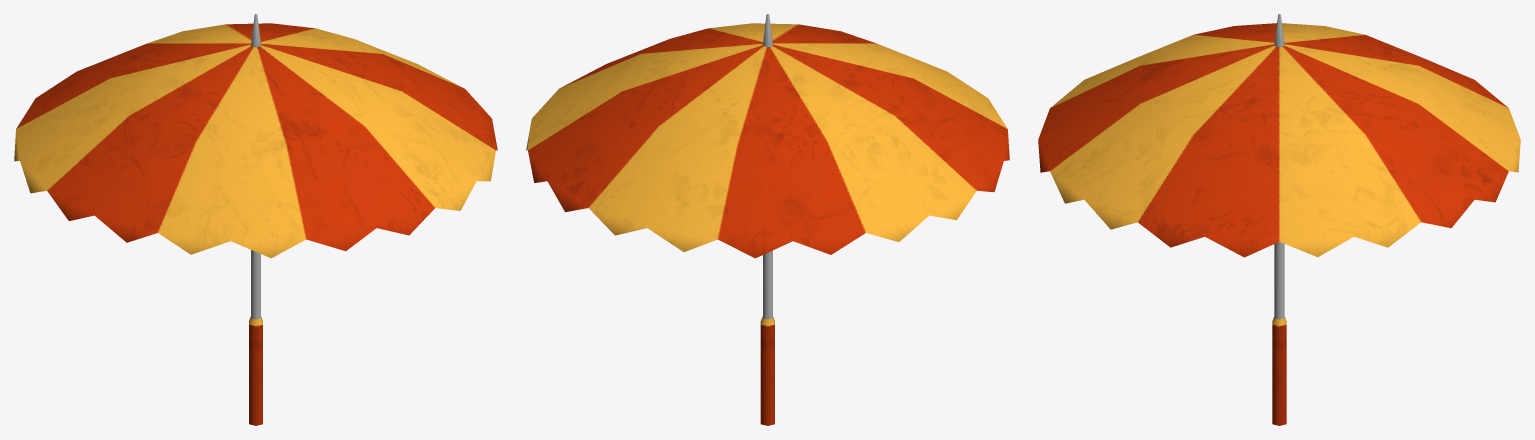
File: Umbrella.fbx
3 views of the same model, side by side, from view 1: azimuth 30°, elevation 25°; view 2: azimuth 150°, elevation 25°; view 3: azimuth 270°, elevation 25° (orthographic).
Visible parts, largest first — view 1: Umbrella1; view 2: Umbrella1; view 3: Umbrella1.
Boxes of the visible parts, bbox=[...] form: Umbrella1: bbox=[14, 14, 497, 425]; Umbrella1: bbox=[526, 14, 1009, 425]; Umbrella1: bbox=[1038, 14, 1520, 425].
Bounding box in the file's own units: 4.63 × 4.32 × 4.63.
1 material, 1 textured.
